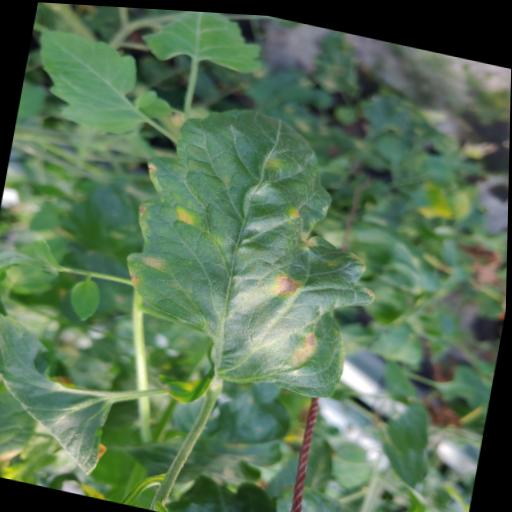Healthy: (23, 24, 155, 135), (138, 6, 269, 77)
Leaf Mold: (108, 85, 404, 404), (270, 475, 407, 512)
